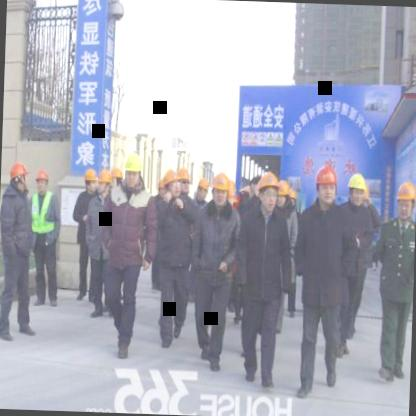helmet: (314, 162, 340, 207), (394, 177, 416, 224), (122, 151, 146, 194), (257, 172, 282, 212), (158, 162, 181, 203), (8, 159, 32, 197), (346, 172, 369, 210), (210, 170, 230, 209), (275, 178, 292, 212), (96, 167, 114, 198), (34, 164, 50, 197), (81, 164, 98, 195), (111, 166, 125, 196), (196, 176, 210, 204), (180, 166, 192, 194)
